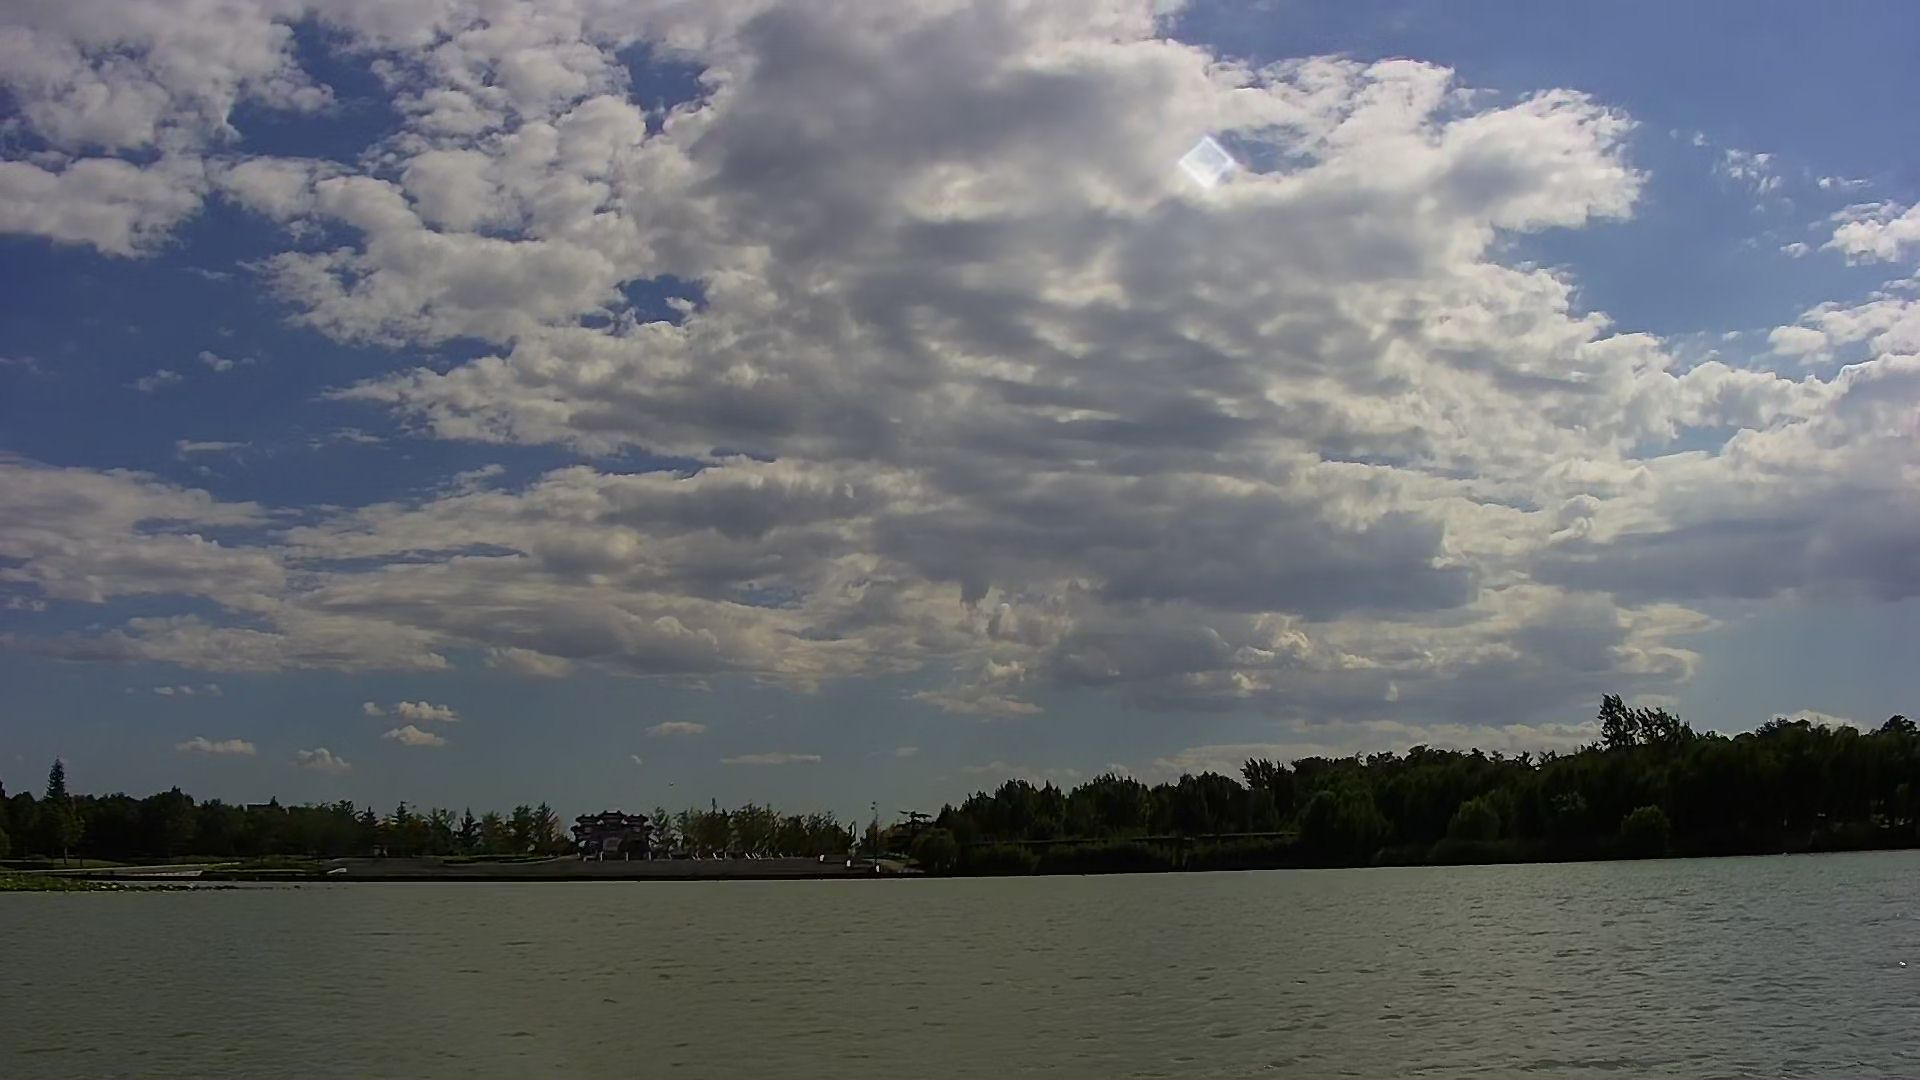harbor: (285, 843, 931, 884)
